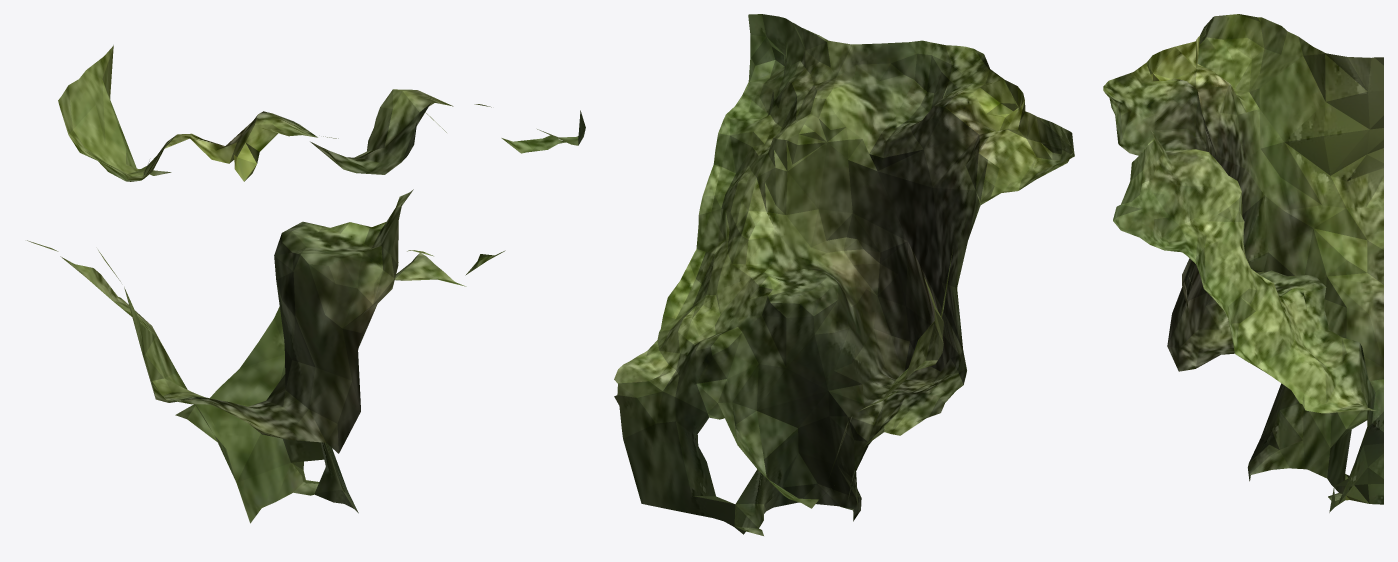
3 renders of one model, left to right at view 1: azimuth 30°, elevation 25°; view 2: azimuth 150°, elevation 25°; view 3: azimuth 270°, elevation 25°, orthographic. The views are drawn at different scales.
Bounding box in the file's own units: 2.77 × 2.95 × 2.02.
Materials: 3 (3 with a texture image).
